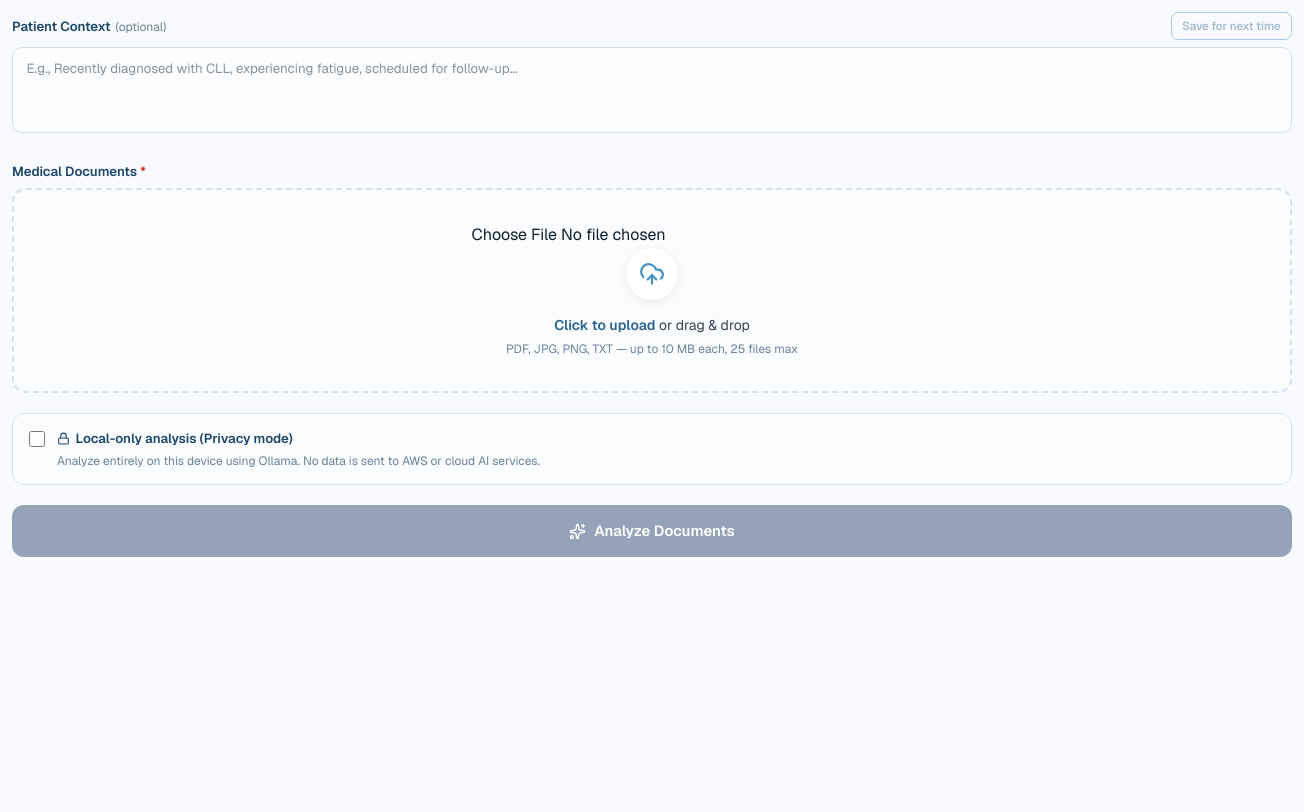
Test: FileUpload › shows error message when save fails
Type "new context" into the text box labelled "Patient Context(optional)".
click(652, 90); type("new context")  # box [12,47,1292,133]
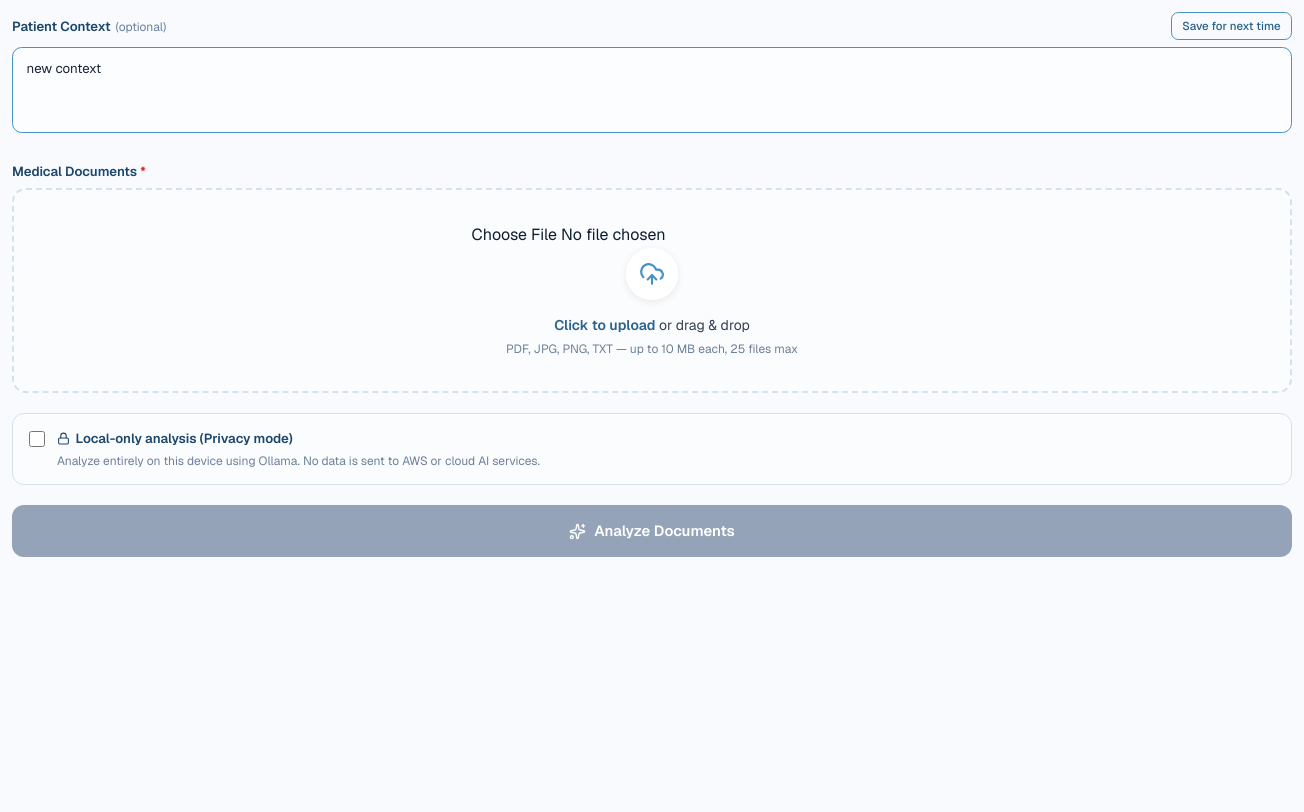
Click the button "Save for next time".
click(1231, 26)  # box [1171,12,1292,40]
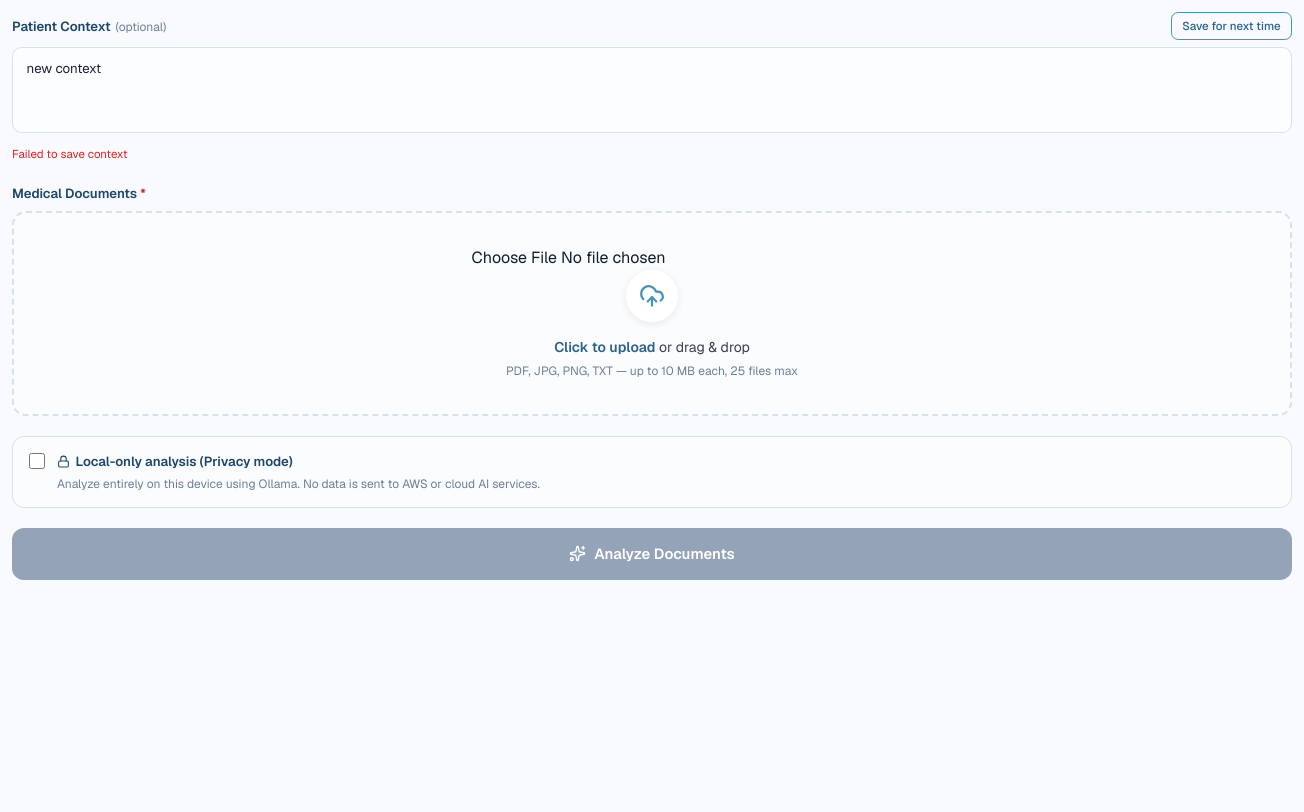
Check: the text "Failed to save context" is shown, box [12,146,128,161]
